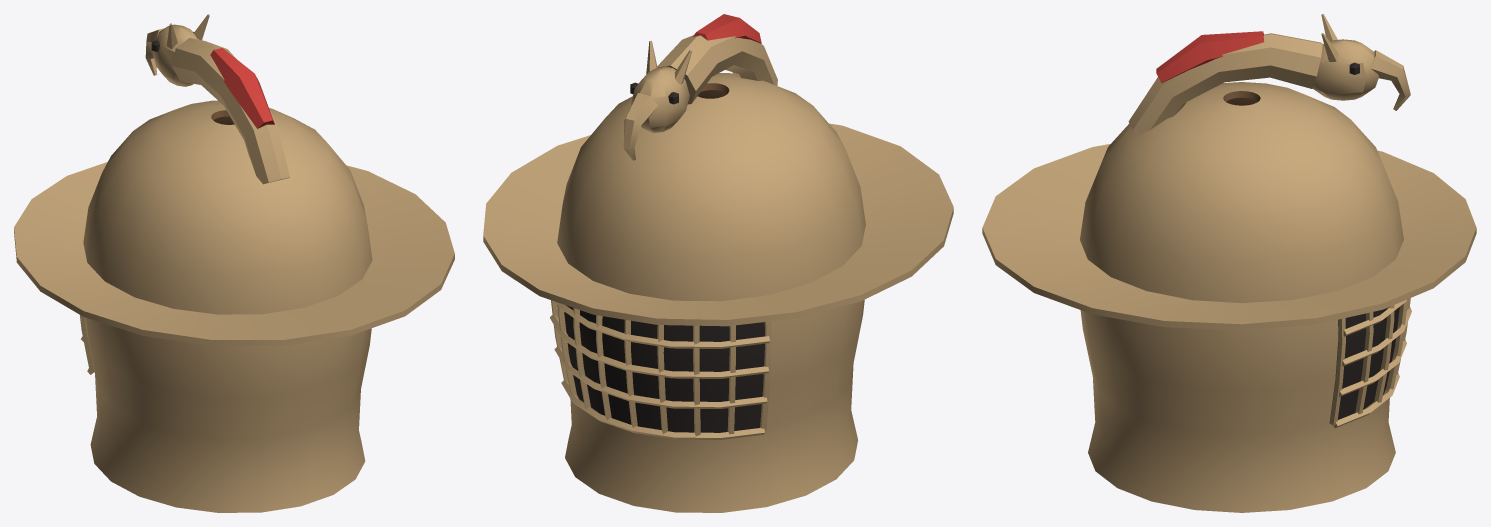
The model's file is thraex.glb.
The picture shows the model from 3 angles, left to right: view 1: azimuth 30°, elevation 25°; view 2: azimuth 150°, elevation 25°; view 3: azimuth 270°, elevation 25°; orthographic projection. The views are drawn at different scales.
Visible parts, largest first — view 1: OUT; view 2: OUT; view 3: OUT.
Boxes of the visible parts, bbox=[...] form: OUT: bbox=[14, 14, 454, 512]; OUT: bbox=[483, 14, 953, 512]; OUT: bbox=[982, 14, 1476, 512].
Size of the model in its own units: 0.3975 by 0.4124 by 0.4293.
